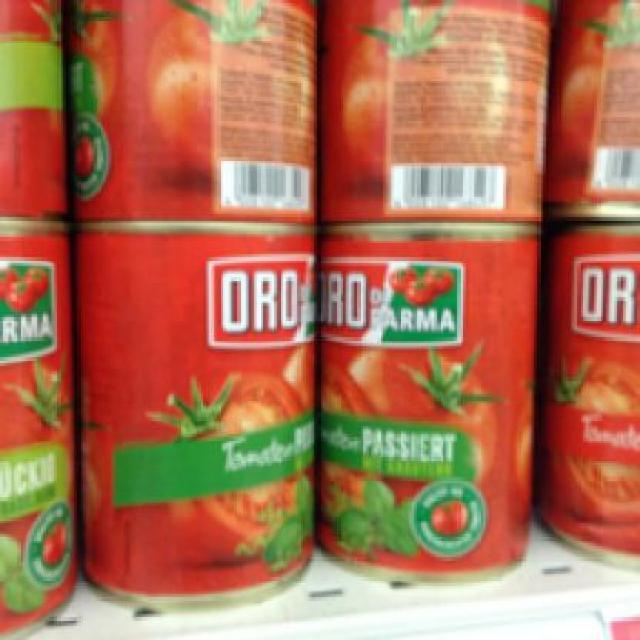Tomato Sauce: (71, 217, 320, 603), (320, 217, 540, 580), (66, 0, 320, 220), (317, 0, 543, 217), (537, 217, 637, 552)
